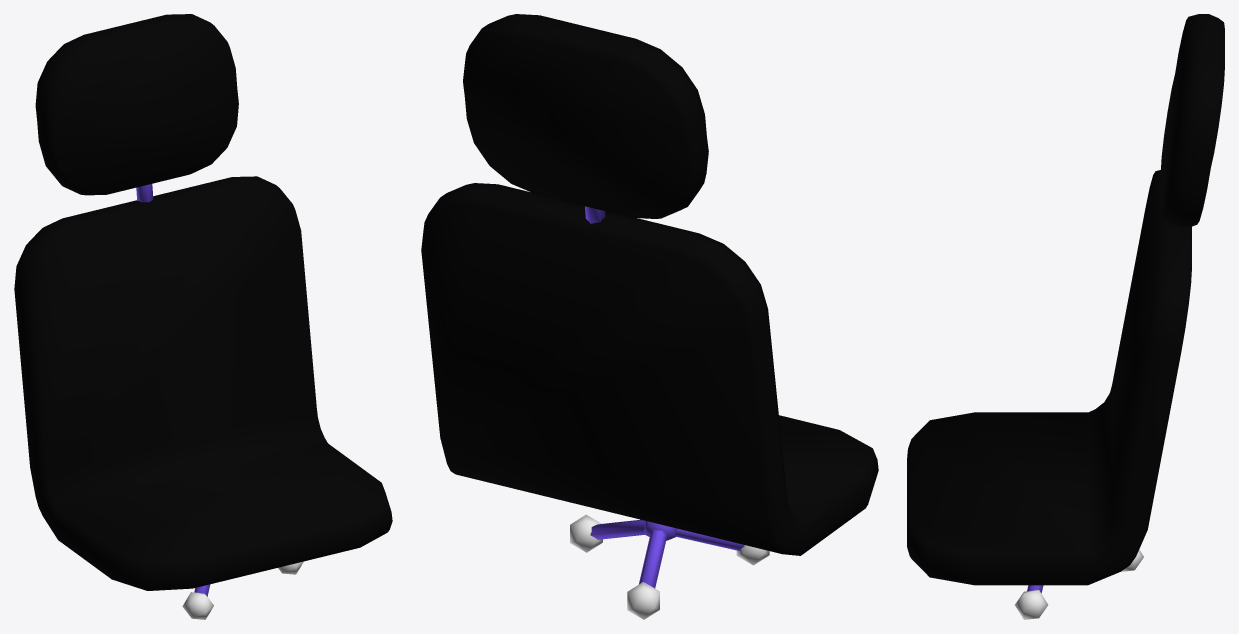
Rendered from sedia.fbx.
The picture shows the model from 3 angles, left to right: view 1: azimuth 30°, elevation 25°; view 2: azimuth 150°, elevation 25°; view 3: azimuth 270°, elevation 25°; orthographic projection. The views are drawn at different scales.
Visible parts, largest first — view 1: Cube; view 2: Cube; view 3: Cube.
Boxes of the visible parts, <box> form: Cube: <box>14,14,392,619</box>; Cube: <box>421,14,878,619</box>; Cube: <box>907,14,1224,619</box>.
Size of the model in its own units: 205 by 358 by 192.
